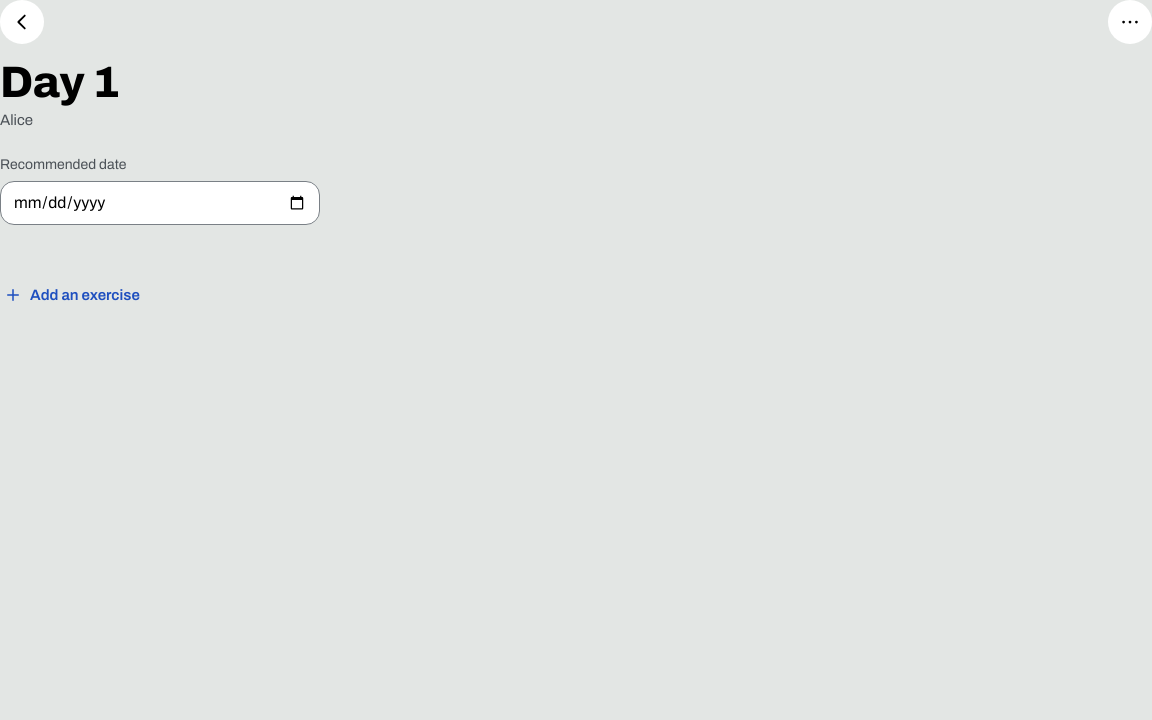
Test: SessionEditor › leaving it › returns to that block after deleting the session
Click the button named "Session options".
click(1130, 22)  # box x1=1108 y1=0 x2=1151 y2=44
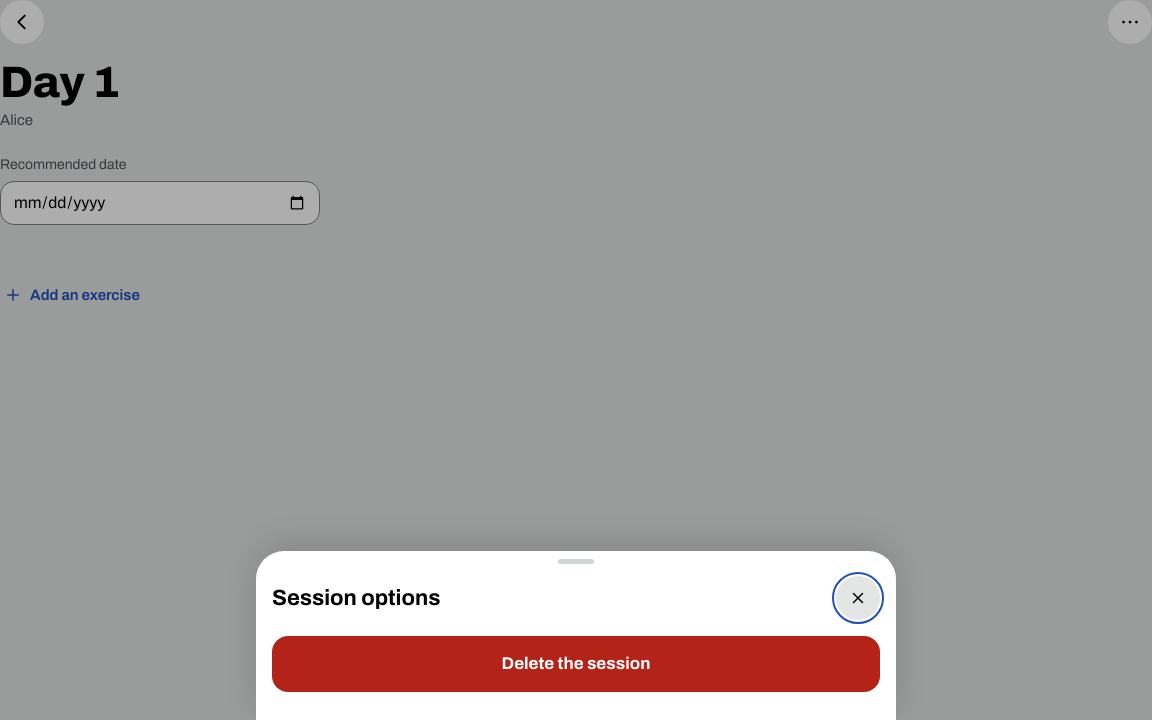
Click the button "Delete the session".
click(576, 664)  # box x1=272 y1=636 x2=880 y2=692
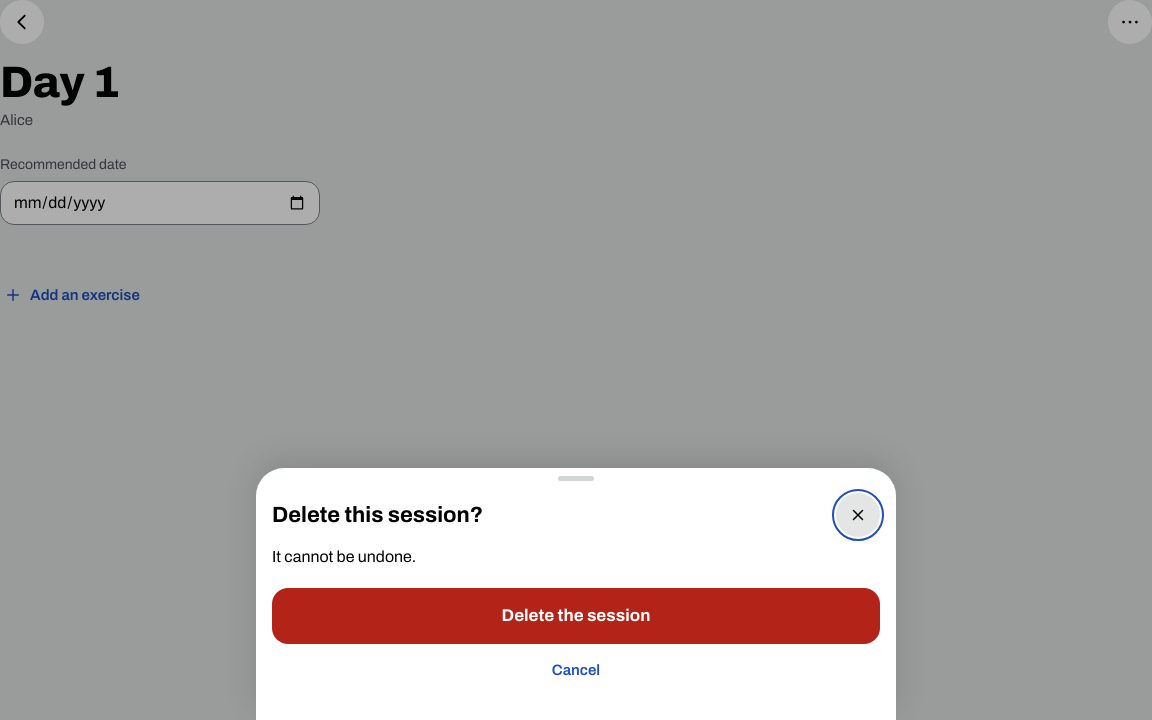
Click the button "Delete the session".
click(576, 616)  # box x1=272 y1=588 x2=880 y2=644
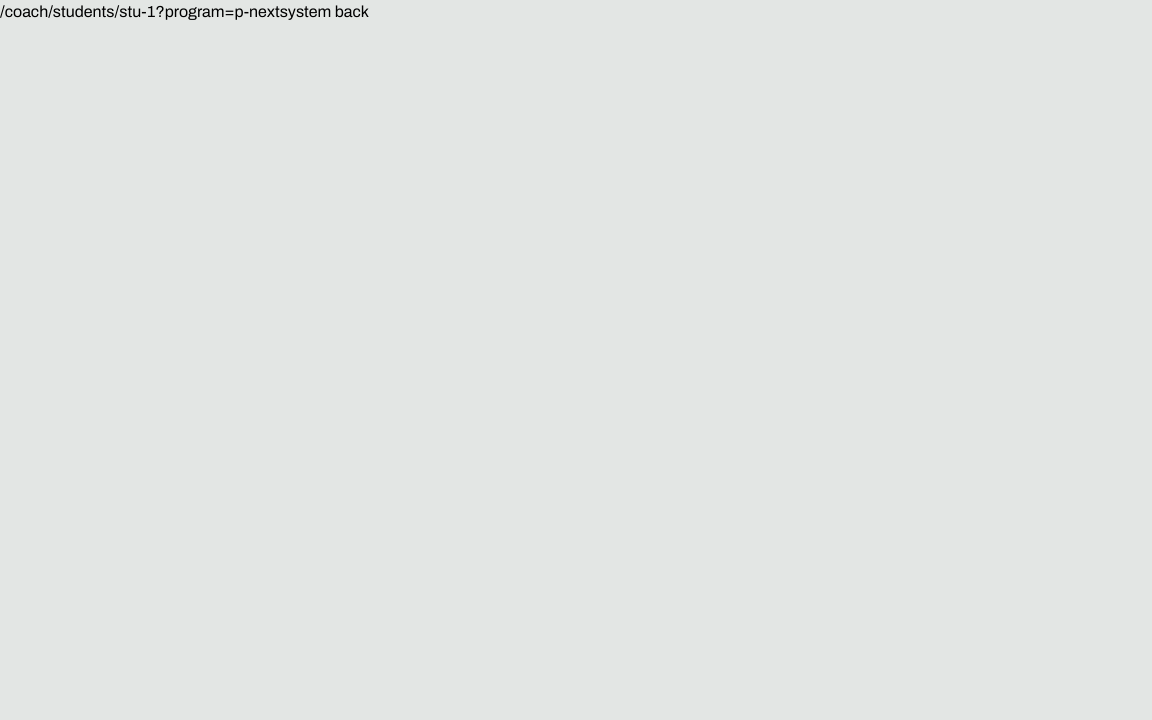
Now the text with test id "where" reads "/coach/students/stu-1?program=p-next", box x1=0 y1=3 x2=280 y2=20
